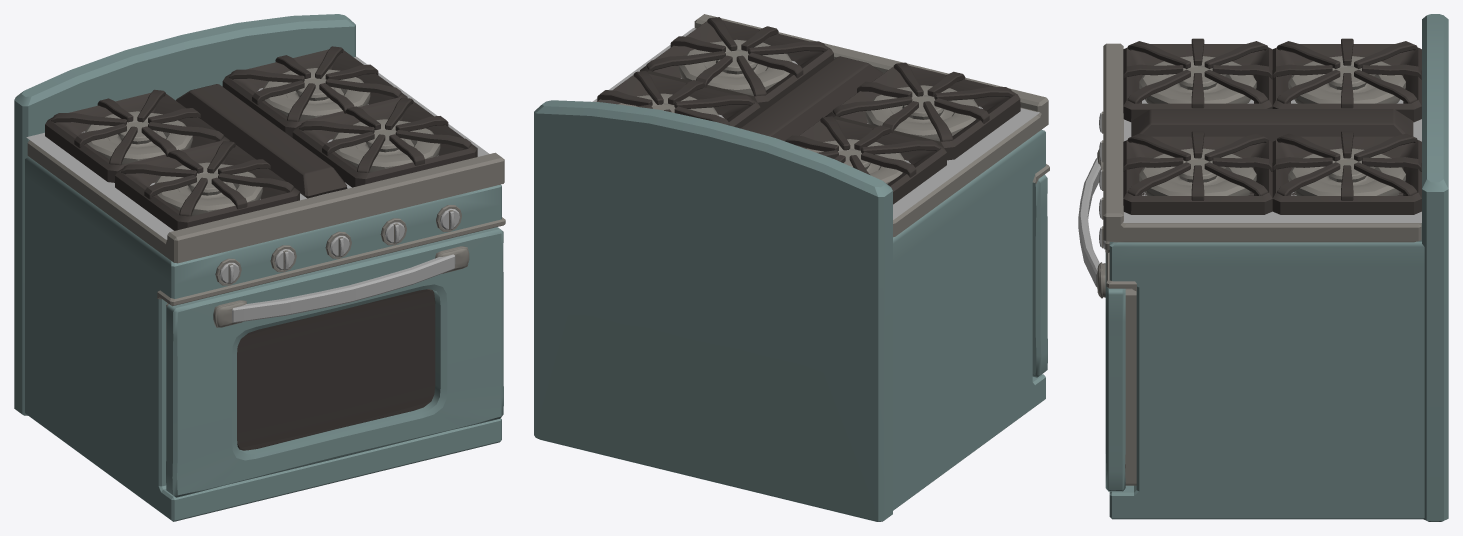
Rendered from Oven.fbx.
The picture shows the model from 3 angles, left to right: view 1: azimuth 30°, elevation 25°; view 2: azimuth 150°, elevation 25°; view 3: azimuth 270°, elevation 25°; orthographic projection. The views are drawn at different scales.
Parts seen in each view (by area): view 1: Oven; view 2: Oven; view 3: Oven.
Boxes of the visible parts, <box> form: Oven: <box>14,14,505,521</box>; Oven: <box>534,14,1049,521</box>; Oven: <box>1078,14,1448,521</box>.
Bounding box in the file's own units: 1.52 × 1.46 × 1.36.
